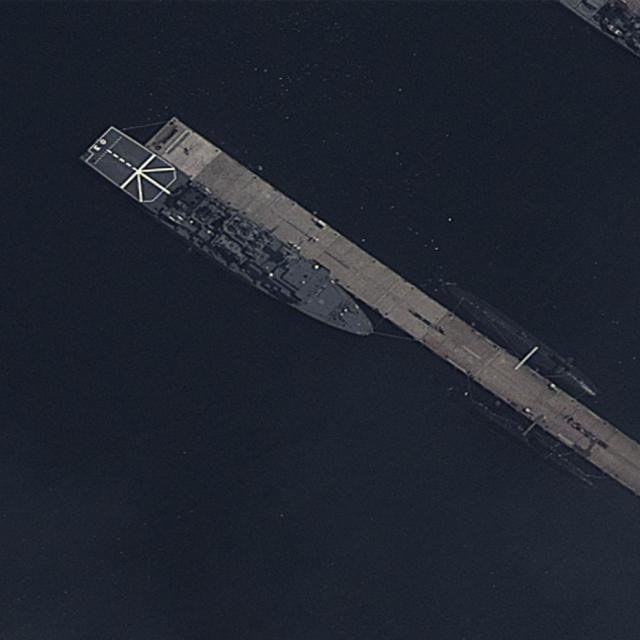Landing: (79, 115, 383, 357)
Submarine: (435, 274, 601, 407), (445, 378, 605, 493)
